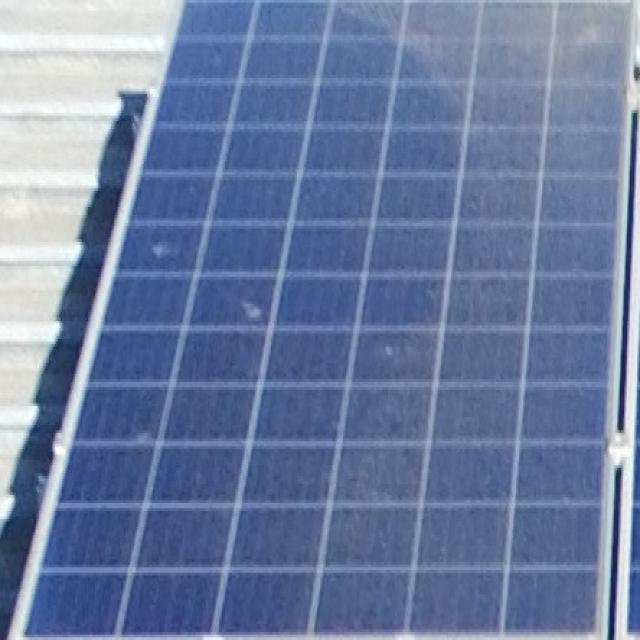Dust: (398, 6, 638, 204)
bird-droppings: (242, 290, 265, 326)
